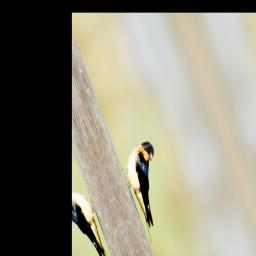Swallow: (116, 136, 182, 247)
